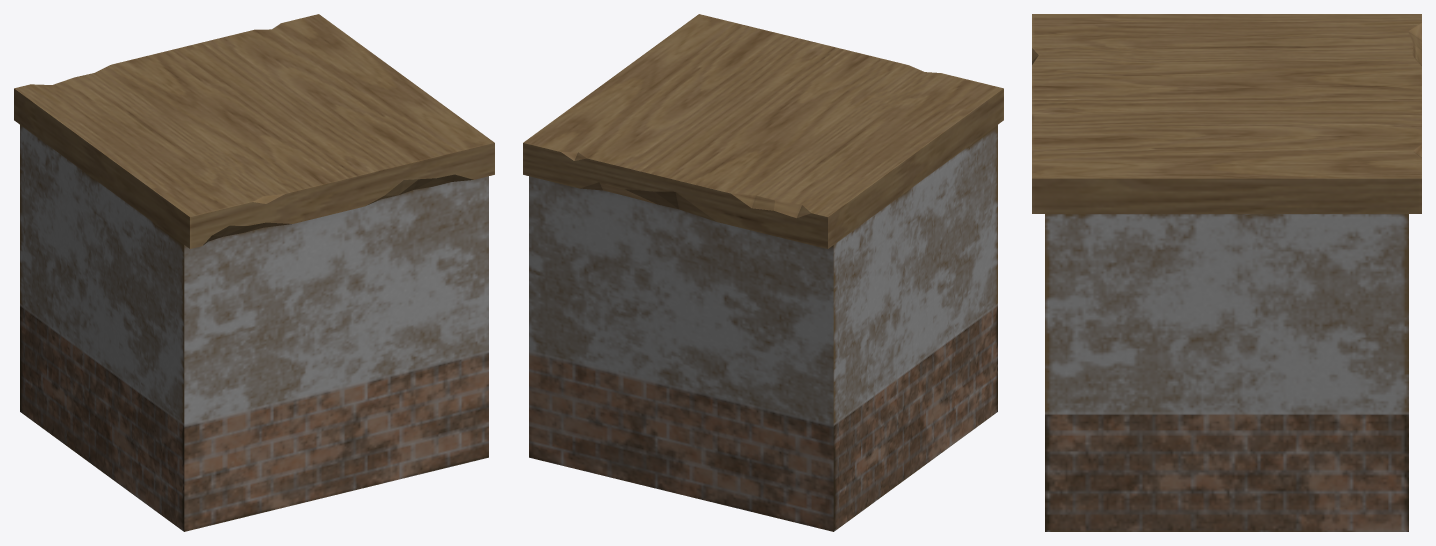
The model's file is sb_obj_outdoor029_house01_wall02_ruins.fbx.
The picture shows the model from 3 angles, left to right: view 1: azimuth 30°, elevation 25°; view 2: azimuth 150°, elevation 25°; view 3: azimuth 270°, elevation 25°; orthographic projection. The views are drawn at different scales.
Visible parts, largest first — view 1: sb_obj_outdoor029_house01_wall02_ruins; view 2: sb_obj_outdoor029_house01_wall02_ruins; view 3: sb_obj_outdoor029_house01_wall02_ruins.
Part boxes in pixels (<box>): sb_obj_outdoor029_house01_wall02_ruins: <box>14,14,494,531</box>; sb_obj_outdoor029_house01_wall02_ruins: <box>523,14,1003,531</box>; sb_obj_outdoor029_house01_wall02_ruins: <box>1032,14,1421,531</box>.
Bounding box in the file's own units: 3 × 3 × 3.
